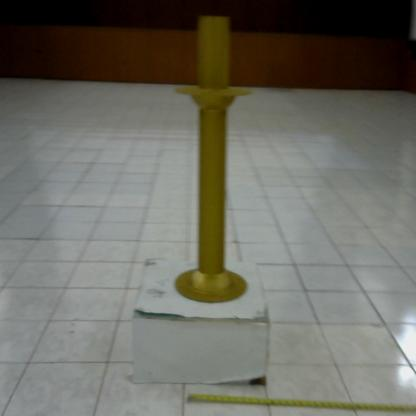pole: (168, 5, 254, 311)
